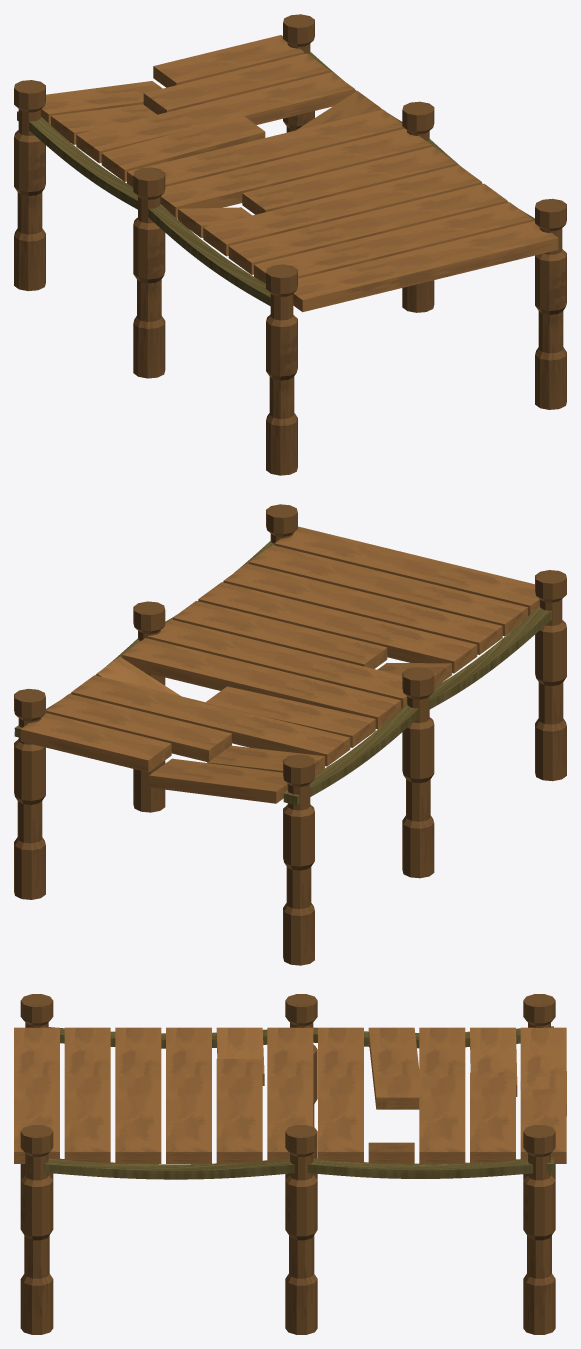
File: porto.fbx
The picture shows the model from 3 angles, top to bottom: view 1: azimuth 30°, elevation 25°; view 2: azimuth 150°, elevation 25°; view 3: azimuth 270°, elevation 25°; orthographic projection.
Parts seen in each view (by area): view 1: Cube, Cylinder.001, Plane.001; view 2: Cube, Cylinder.001, Plane.001; view 3: Cube, Cylinder.001, Plane.001.
Boxes of the visible parts, left/top/right/bottom form: Cube: left=41, top=35, right=558, bottom=312; Cylinder.001: left=14, top=14, right=566, bottom=475; Plane.001: left=17, top=51, right=562, bottom=309; Cube: left=20, top=526, right=539, bottom=803; Cylinder.001: left=14, top=504, right=566, bottom=965; Plane.001: left=14, top=540, right=551, bottom=805; Cube: left=14, top=1027, right=566, bottom=1163; Cylinder.001: left=20, top=994, right=555, bottom=1334; Plane.001: left=30, top=1026, right=554, bottom=1179.
Bounding box in the file's own units: 1480 × 943 × 2402.
3 materials, 3 textured.
